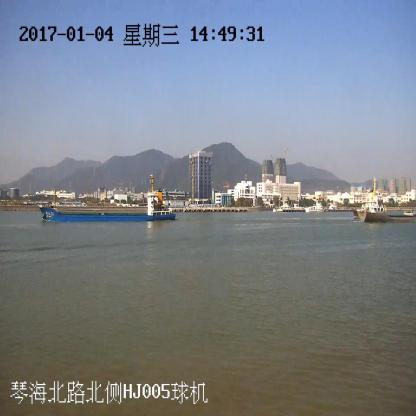Bulk Carrier: (40, 178, 176, 221), (359, 180, 415, 224)
